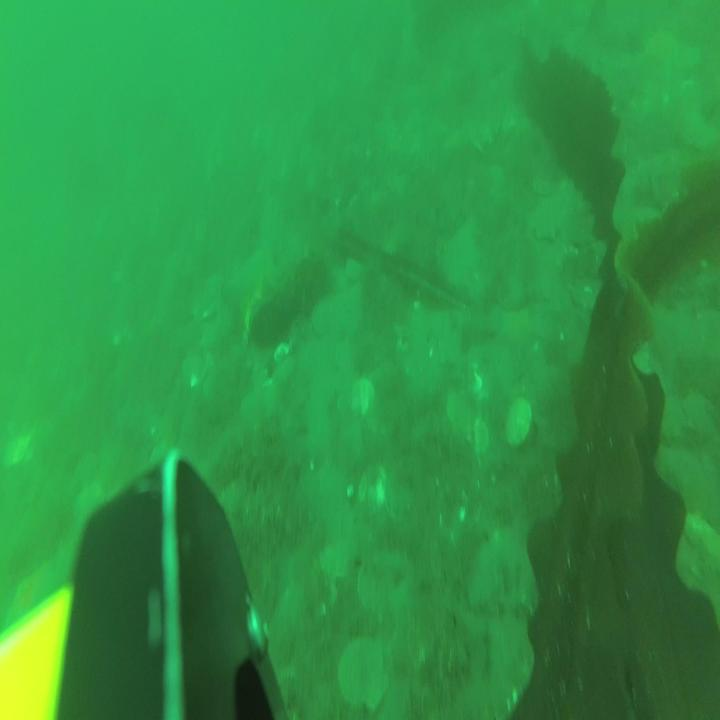holothurian: (683, 508, 720, 579)
scallop: (339, 637, 390, 712), (245, 379, 282, 424), (359, 461, 388, 514), (532, 198, 566, 243), (507, 394, 535, 446), (682, 392, 710, 438), (350, 377, 378, 416), (312, 298, 332, 337), (273, 353, 295, 384)
starfish: (8, 558, 66, 624)
